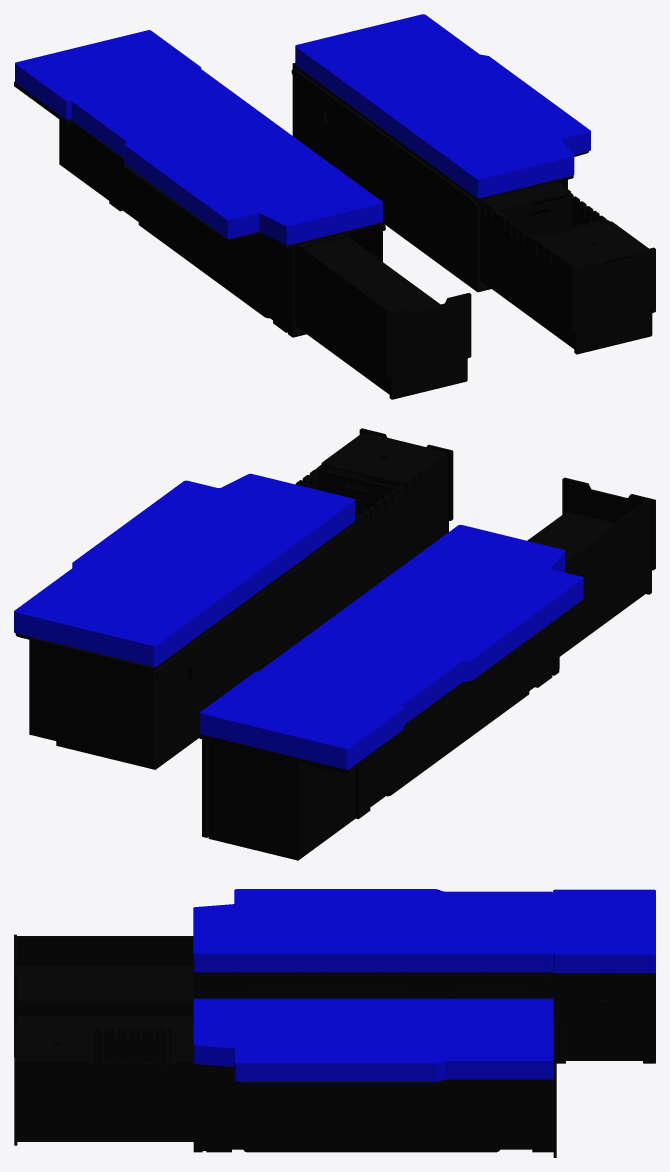
The model's file is Configuration T5.T6 L1 - Assynt.glb.
3 views of the same model, one above another, from view 1: azimuth 30°, elevation 25°; view 2: azimuth 150°, elevation 25°; view 3: azimuth 270°, elevation 25° (orthographic). The views are drawn at different scales.
Bounding box in the file's own units: 1.62 × 0.4741 × 2.5.
